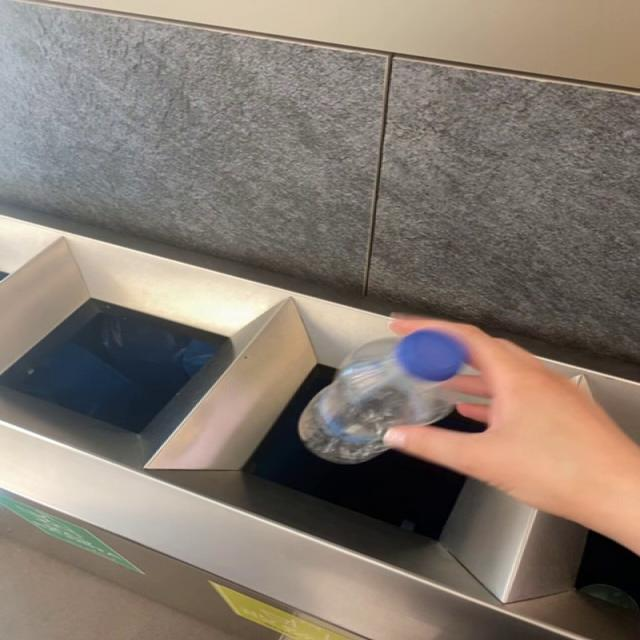plastic: (299, 330, 489, 464)
